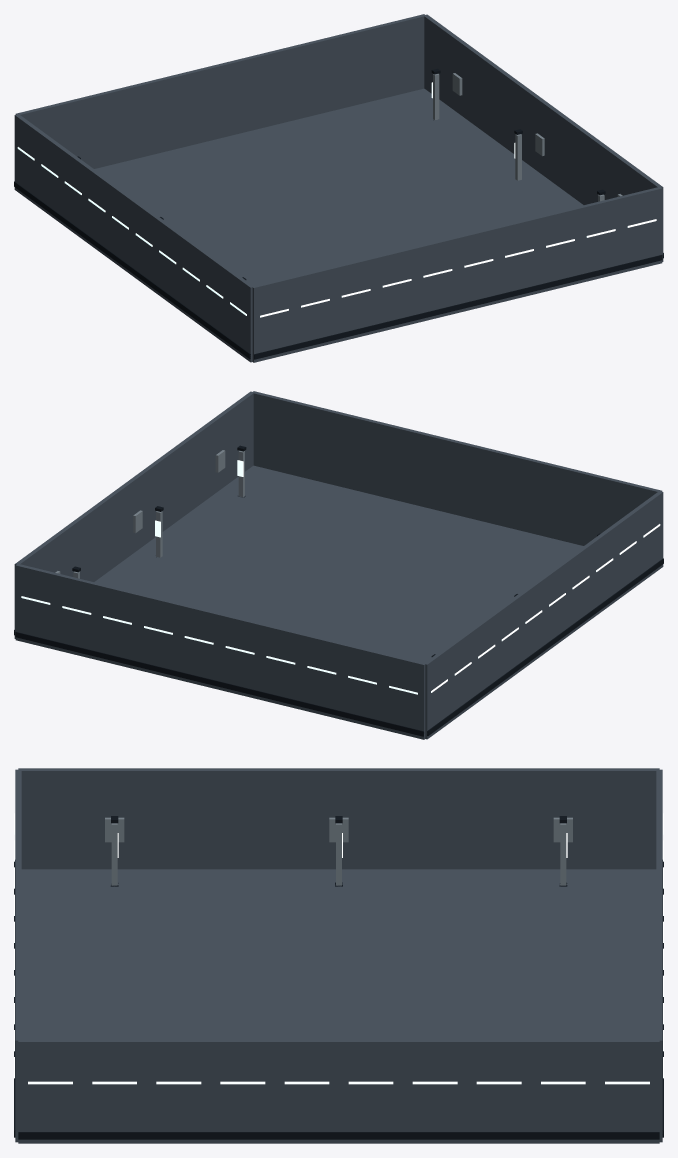
Rendered from np_z03_zone_extraction.glb.
3 renders of one model, top to bottom at view 1: azimuth 30°, elevation 25°; view 2: azimuth 150°, elevation 25°; view 3: azimuth 270°, elevation 25°, orthographic. The views are drawn at different scales.
Parts seen in each view (by area): view 1: Panneau25, Panneau29, Panneau27, Panneau37, Panneau22, Panneau33, Panneau31, Panneau35, Panneau26, Panneau28, Panneau24, Panneau36 (+84 smaller); view 2: Panneau26, Panneau30, Panneau28, Panneau38, Panneau21, Panneau34, Panneau32, Panneau36, Panneau25, Panneau27, Panneau23, Panneau35 (+84 smaller); view 3: Panneau5, Panneau7, Panneau13, Panneau15, Panneau, Panneau19, Panneau4, Panneau6, Panneau8, Panneau14, Panneau16, Panneau18 (+80 smaller).
Part boxes in pixels (bbox=[...]): Panneau25: bbox=[97, 84, 140, 167]; Panneau29: bbox=[179, 64, 222, 147]; Panneau27: bbox=[138, 74, 181, 157]; Panneau37: bbox=[343, 24, 385, 107]; Panneau22: bbox=[252, 276, 294, 362]; Panneau33: bbox=[261, 44, 303, 127]; Panneau31: bbox=[220, 54, 262, 137]; Panneau35: bbox=[302, 34, 344, 117]; Panneau26: bbox=[333, 256, 376, 342]; Panneau28: bbox=[374, 246, 417, 332]; Panneau24: bbox=[292, 266, 335, 352]; Panneau36: bbox=[538, 206, 580, 292]; Panneau26: bbox=[537, 461, 580, 544]; Panneau30: bbox=[455, 441, 498, 524]; Panneau28: bbox=[496, 451, 539, 534]; Panneau38: bbox=[292, 401, 334, 484]; Panneau21: bbox=[383, 653, 425, 739]; Panneau34: bbox=[374, 421, 416, 504]; Panneau32: bbox=[415, 431, 457, 514]; Panneau36: bbox=[333, 411, 375, 494]; Panneau25: bbox=[301, 633, 344, 719]; Panneau27: bbox=[260, 623, 303, 709]; Panneau23: bbox=[342, 643, 385, 729]; Panneau35: bbox=[97, 583, 139, 669]; Panneau5: bbox=[467, 768, 531, 869]; Panneau7: bbox=[403, 768, 467, 869]; Panneau13: bbox=[210, 768, 274, 869]; Panneau15: bbox=[146, 768, 210, 869]; Panneau: bbox=[595, 768, 659, 869]; Panneau19: bbox=[18, 768, 82, 869]; Panneau4: bbox=[531, 1039, 595, 1143]; Panneau6: bbox=[467, 1039, 531, 1143]; Panneau8: bbox=[403, 1039, 467, 1143]; Panneau14: bbox=[210, 1039, 274, 1143]; Panneau16: bbox=[146, 1039, 210, 1143]; Panneau18: bbox=[82, 1039, 146, 1143].
Size of the model in its own units: 20.28 by 3.5 by 20.28.
